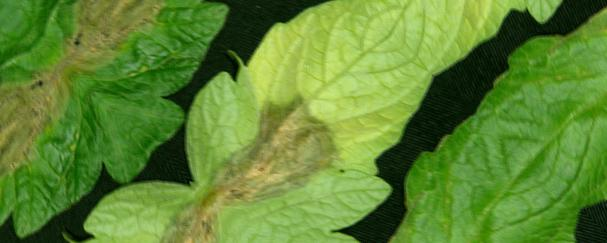Tomato mold leaf: (152, 0, 483, 243), (0, 0, 307, 141), (302, 104, 607, 243)
